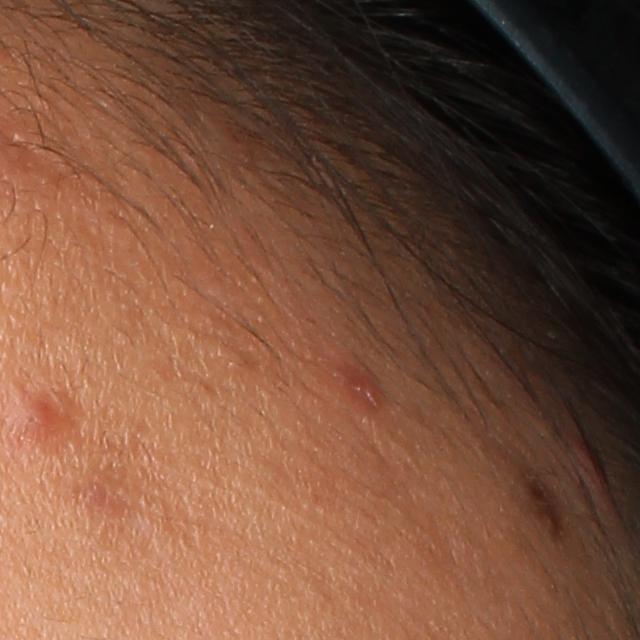papule: (328, 362, 387, 411), (576, 439, 620, 494)
